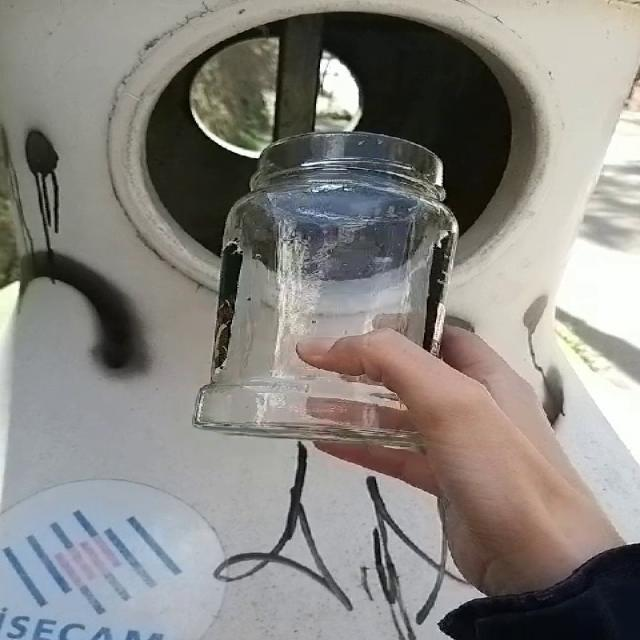glass: (195, 132, 459, 448)
